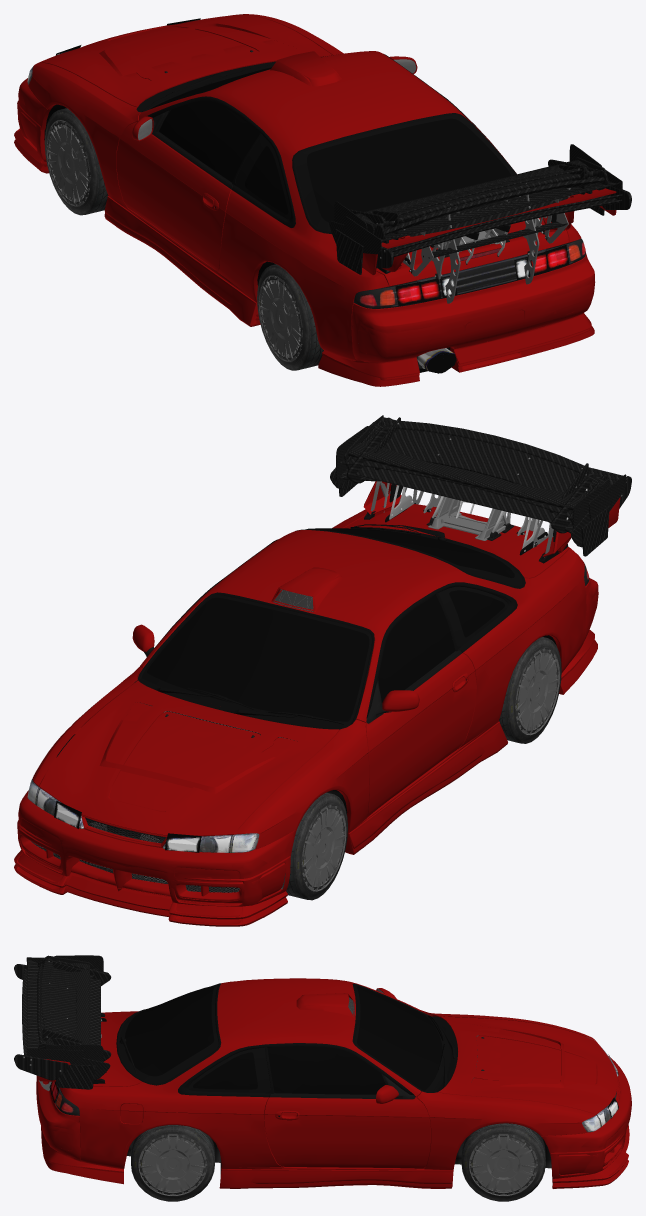
The picture shows the model from 3 angles, top to bottom: view 1: azimuth 30°, elevation 25°; view 2: azimuth 150°, elevation 25°; view 3: azimuth 270°, elevation 25°; orthographic projection. The views are drawn at different scales.
Visible parts, largest first — view 1: S14, RearBumper2, RearBumper3, Hood, Spoiler3, Hood_001, Hood_002, RearBumper1, Spoiler5, Spoiler7, RearBumper, W1_001 (+18 smaller); view 2: S14, Hood, FrontBumper2, Hood_001, Hood_002, Spoiler7, FrontBumper, Spoiler9, Spoiler6, FrontBumper4, FrontBumper3, W1 (+13 smaller); view 3: S14, Hood, Hood_001, Hood_002, W1_003, Spoiler7, W1_002, FrontBumper2, SideSkirt2, SideSkirt3, Spoiler3, W0_002 (+21 smaller).
Boxes of the visible parts, box(x1,y1,x2,y2) form: S14: box(27, 14, 585, 361); RearBumper2: box(322, 259, 595, 378); RearBumper3: box(318, 256, 594, 386); Hood: box(39, 15, 332, 107); Spoiler3: box(344, 170, 622, 276); Hood_001: box(43, 15, 328, 107); Hood_002: box(89, 23, 308, 96); RearBumper1: box(352, 256, 594, 380); Spoiler5: box(376, 186, 631, 278); Spoiler7: box(372, 165, 585, 303); RearBumper: box(352, 253, 594, 362); W1_001: box(258, 264, 323, 370); S14: box(27, 504, 589, 852); Hood: box(39, 682, 339, 835); FrontBumper2: box(18, 771, 296, 915); Hood_001: box(43, 680, 339, 835); Hood_002: box(89, 690, 316, 826); Spoiler7: box(374, 417, 588, 526); FrontBumper: box(18, 769, 296, 902); Spoiler9: box(344, 422, 609, 540); Spoiler6: box(346, 427, 592, 555); FrontBumper4: box(14, 825, 290, 926); FrontBumper3: box(14, 820, 290, 919); W1: box(286, 792, 346, 899); S14: box(50, 978, 618, 1173); Hood: box(438, 1016, 617, 1114); Hood_001: box(438, 1016, 617, 1112); Hood_002: box(451, 1021, 611, 1092); W1_003: box(461, 1123, 545, 1197); Spoiler7: box(39, 958, 81, 1090); W1_002: box(131, 1125, 214, 1197); FrontBumper2: box(541, 1056, 630, 1181); SideSkirt2: box(224, 1169, 453, 1183); SideSkirt3: box(219, 1169, 453, 1188); Spoiler3: box(26, 957, 83, 1064); W0_002: box(131, 1125, 214, 1201).
Bounding box in the file's own units: 1.49 × 1.06 × 3.62.
